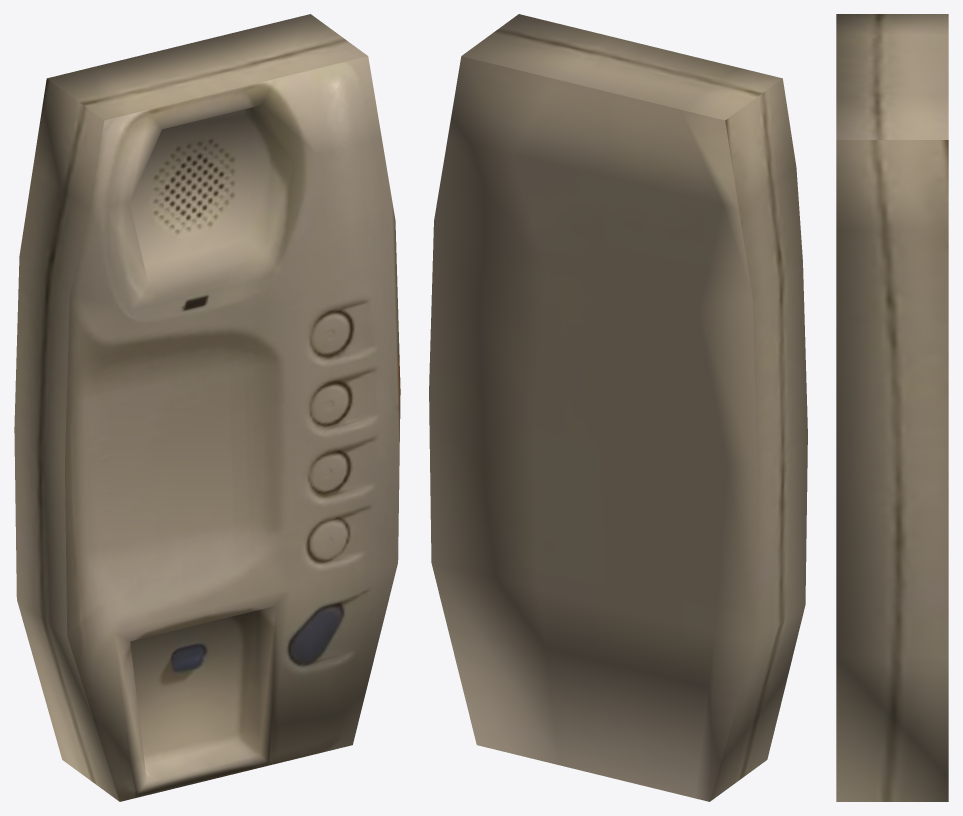
The model's file is wall_phone_box.glb.
3 views of the same model, side by side, from view 1: azimuth 30°, elevation 25°; view 2: azimuth 150°, elevation 25°; view 3: azimuth 270°, elevation 25° (orthographic). The views are drawn at different scales.
Visible parts, largest first — view 1: TelephoneBox; view 2: TelephoneBox; view 3: TelephoneBox.
Part boxes in pixels (left/top/right/bottom): TelephoneBox: left=14, top=14, right=400, bottom=801; TelephoneBox: left=429, top=14, right=807, bottom=801; TelephoneBox: left=836, top=14, right=948, bottom=801.
Size of the model in its own units: 0.3628 by 0.7231 by 0.1101.
1 material, 1 textured.
